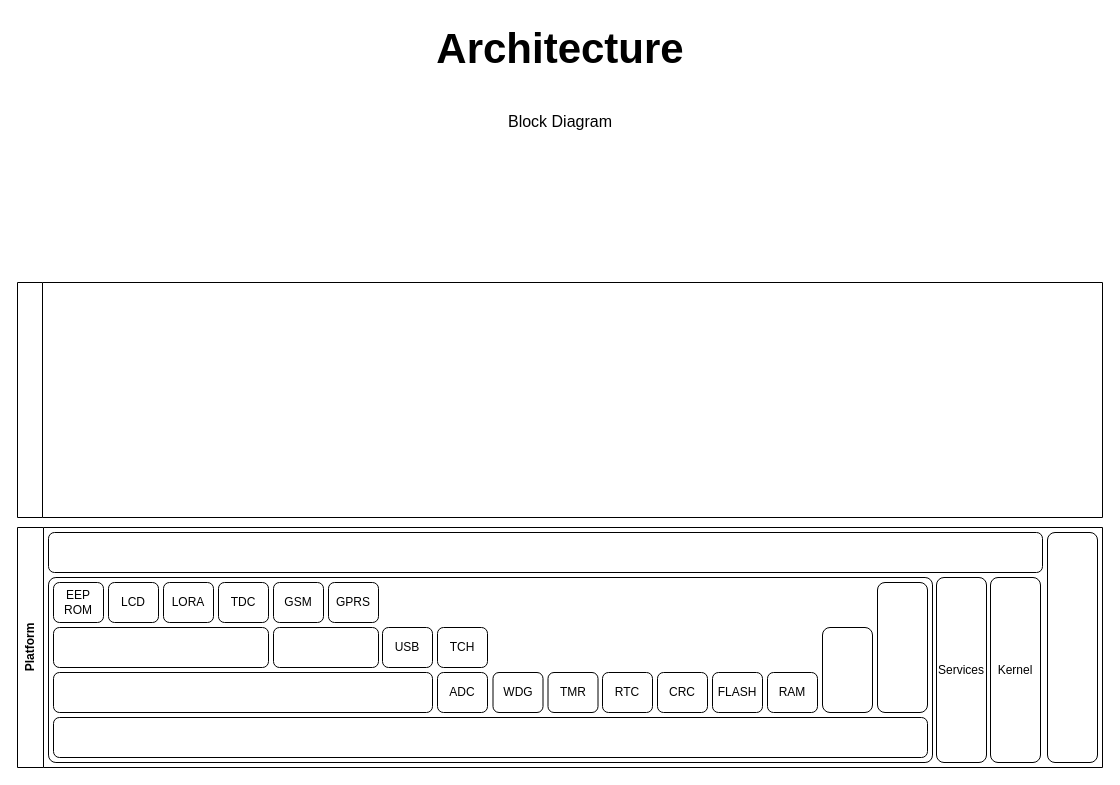
Image size: 1120x785. Some labels were removed from this diagram. The centre of each missing label's shape, as x and y in pixels:
Application: point 559,400
DMA: point 847,669
GPIO: point 242,692
Hardware: point 490,737
Libraries: point 1072,647
Port: point 545,552
PWR: point 902,647
SPI: point 160,647
UART: point 325,647
